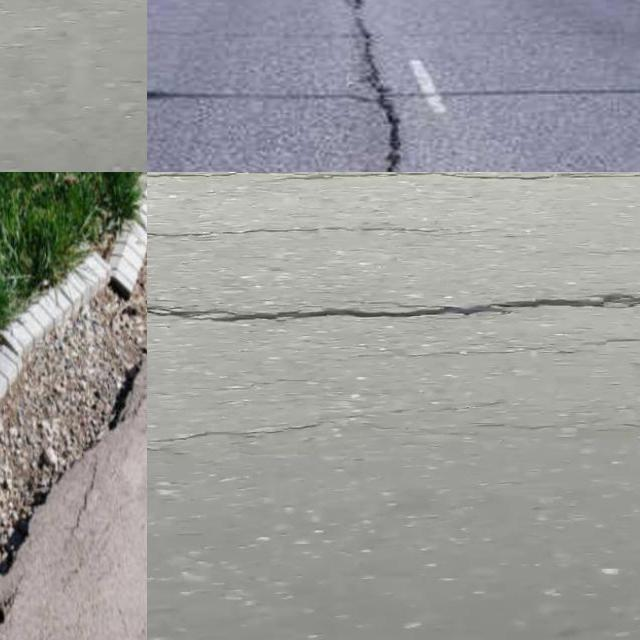Melintang: (147, 283, 640, 338)
Memanjang: (328, 0, 415, 172)
Pinggir: (0, 172, 147, 629)
